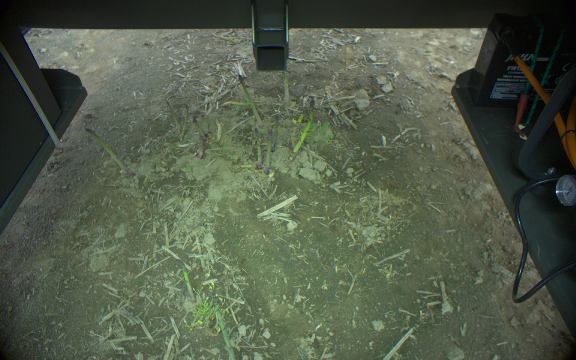aspa: (83, 124, 133, 179), (206, 291, 236, 360), (291, 96, 318, 161), (237, 73, 263, 129), (175, 257, 195, 303), (163, 100, 180, 129), (264, 127, 274, 174), (251, 127, 261, 169), (192, 116, 207, 144), (178, 105, 190, 139), (282, 69, 290, 109), (271, 113, 279, 150), (196, 252, 207, 273)
